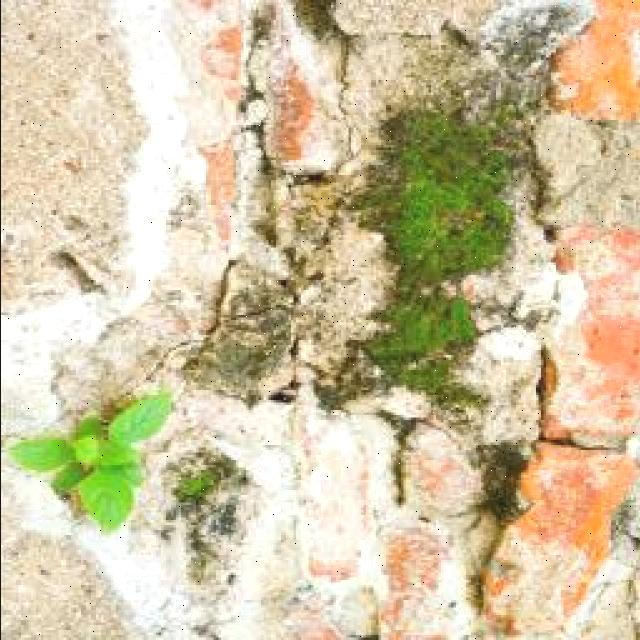crack: (2, 1, 282, 329), (307, 5, 535, 168), (238, 0, 285, 129), (54, 250, 106, 294), (335, 17, 354, 99)
dampens: (252, 4, 360, 173)
vegetation: (344, 105, 561, 539), (347, 104, 523, 393), (146, 369, 306, 557), (8, 389, 179, 531), (139, 495, 291, 640), (0, 512, 142, 639), (453, 2, 591, 124), (528, 109, 640, 232), (333, 1, 483, 46), (9, 436, 75, 471)
